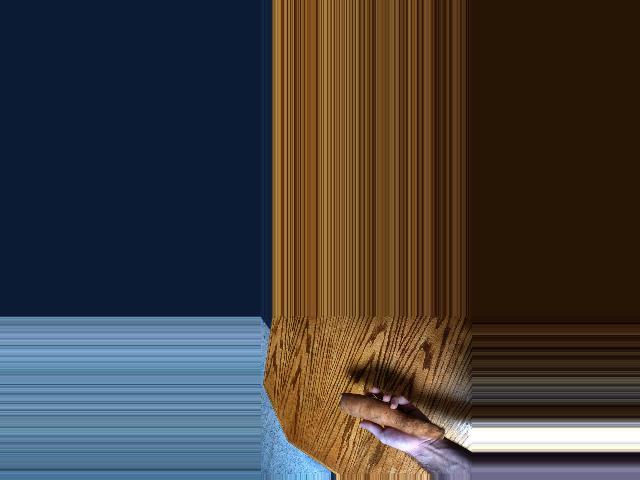sweet_potato: (339, 390, 442, 442)
